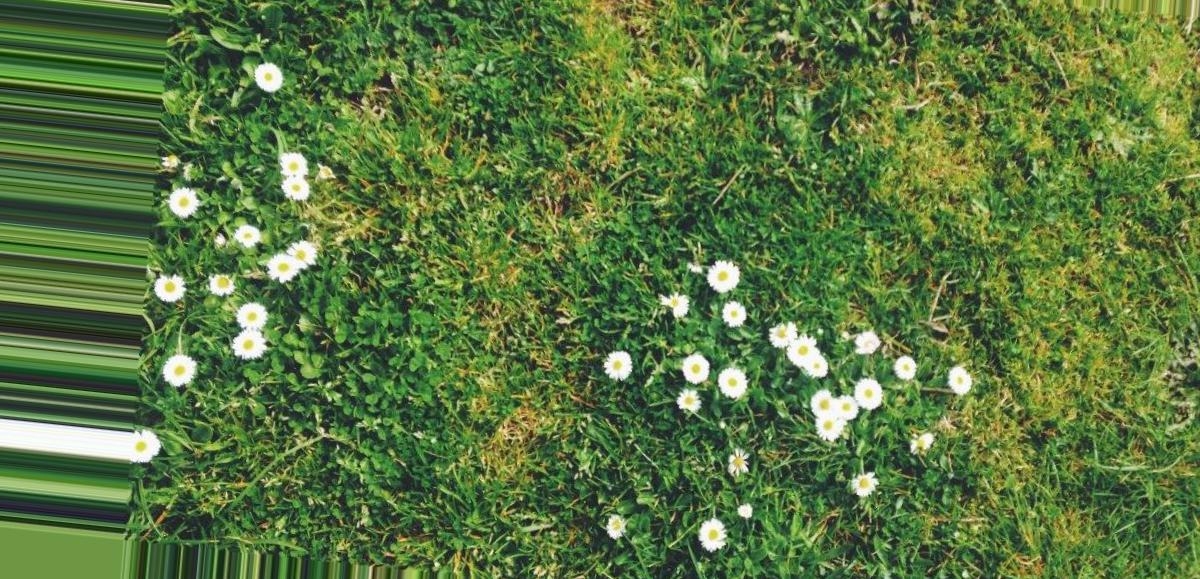patch: (882, 107, 967, 181), (576, 9, 640, 82), (1033, 341, 1084, 387)
